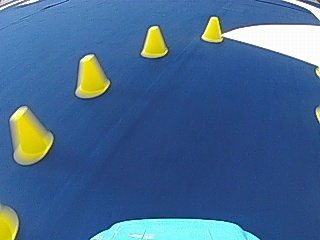cone: (8, 107, 53, 164), (75, 53, 110, 99), (140, 25, 168, 59), (199, 15, 224, 44)
